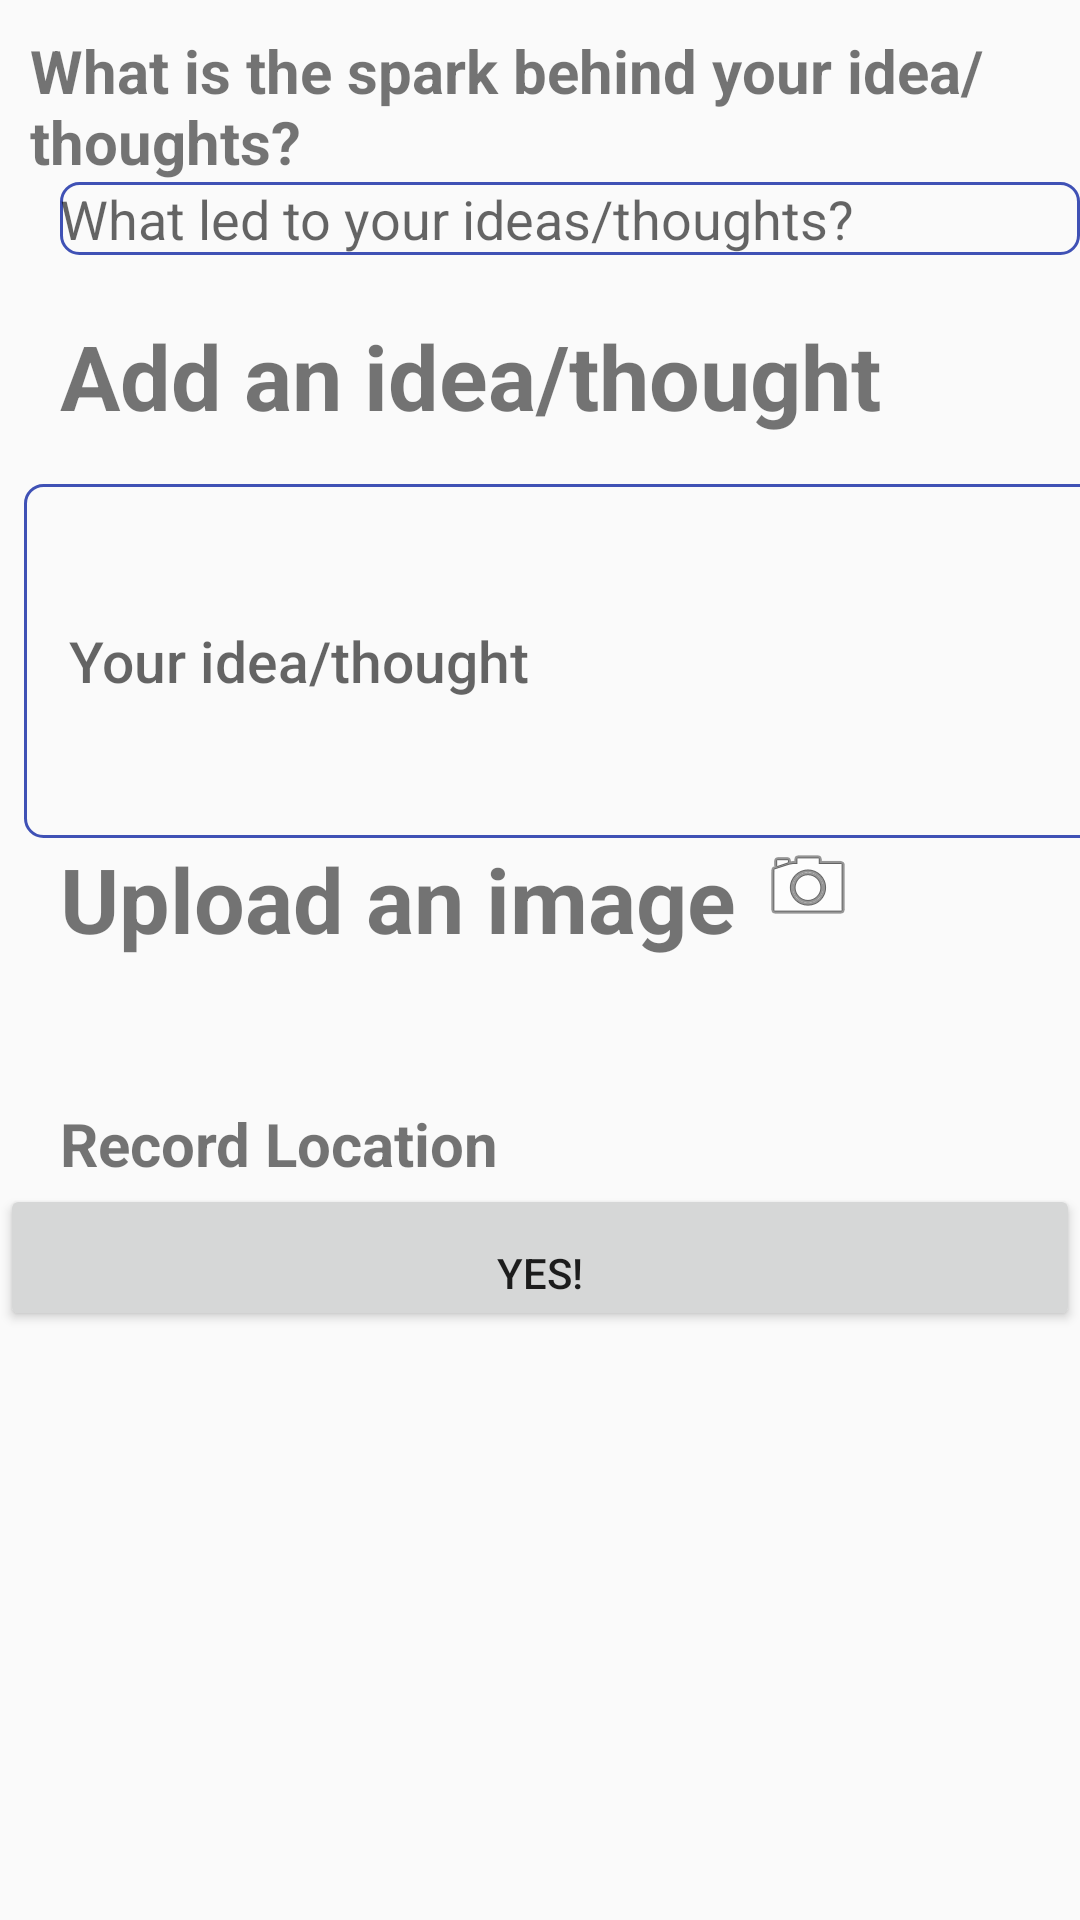

Icon bounding boxes for this 1080×1920 phone screenshot, format (x1, y1, x2, y2):
camera: (771, 855, 845, 914)
